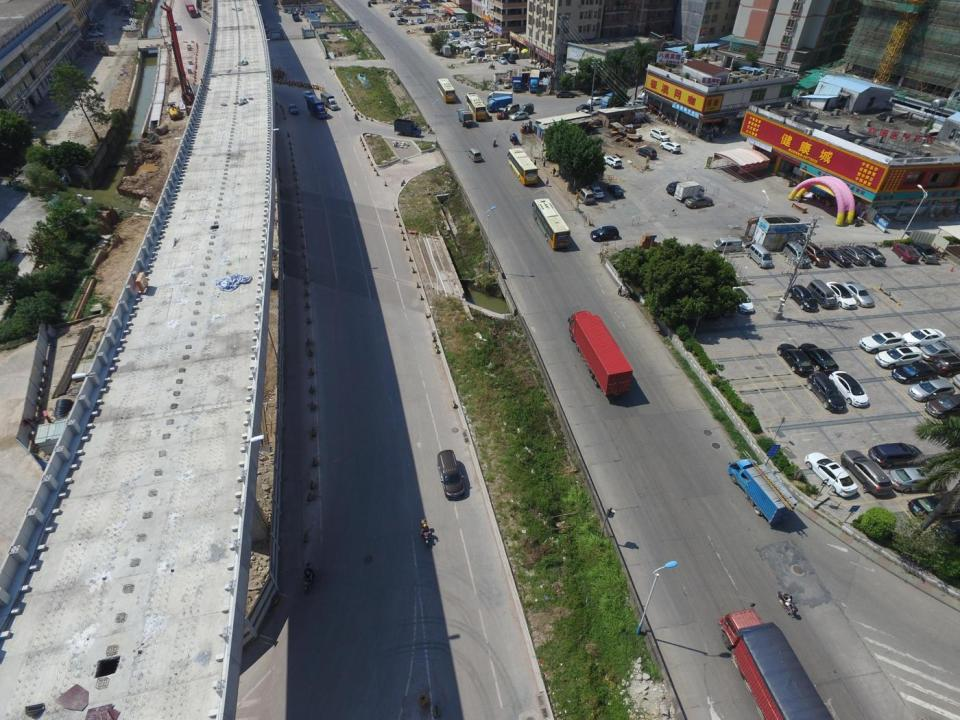bus: (532, 198, 572, 250), (507, 149, 539, 185), (465, 92, 487, 121), (437, 79, 456, 103)
car: (840, 450, 893, 496), (805, 451, 857, 497), (807, 372, 846, 412), (829, 370, 868, 408), (798, 343, 839, 376), (908, 493, 960, 518), (888, 467, 943, 490), (868, 442, 922, 464), (777, 344, 814, 375), (875, 345, 922, 368), (907, 379, 955, 401), (859, 331, 905, 352), (826, 280, 857, 310), (892, 363, 938, 383), (924, 392, 960, 417), (842, 280, 875, 306), (903, 327, 946, 346), (932, 515, 960, 544), (788, 285, 818, 311), (799, 242, 830, 267), (919, 342, 960, 358), (823, 246, 852, 268), (890, 242, 920, 263), (932, 355, 960, 377), (732, 287, 755, 313), (858, 245, 886, 266), (840, 246, 867, 264), (590, 225, 620, 241), (719, 292, 737, 316), (685, 195, 712, 209), (660, 141, 682, 154), (650, 128, 670, 142), (914, 243, 935, 256), (601, 156, 623, 168), (636, 148, 657, 159), (608, 185, 625, 198), (587, 184, 604, 197), (666, 182, 686, 193), (510, 110, 528, 120), (556, 90, 574, 98), (594, 86, 612, 94), (577, 104, 593, 112), (588, 97, 604, 105), (87, 30, 104, 37), (303, 91, 316, 100), (288, 103, 298, 114), (636, 95, 645, 103), (498, 57, 506, 65), (508, 57, 516, 64), (407, 19, 415, 25), (503, 82, 510, 88), (464, 22, 472, 27), (418, 18, 423, 24), (388, 12, 394, 17), (391, 5, 396, 11), (174, 22, 177, 28), (396, 13, 401, 16)
van: (719, 602, 833, 719), (567, 311, 632, 397), (727, 450, 797, 526), (438, 449, 464, 500), (782, 241, 810, 267), (747, 243, 773, 269), (674, 182, 707, 200), (601, 89, 628, 109), (394, 119, 421, 137), (306, 97, 328, 119), (712, 236, 742, 252), (487, 95, 512, 112), (488, 91, 514, 104), (320, 92, 338, 110), (576, 187, 595, 204), (456, 108, 473, 127), (529, 69, 541, 93), (512, 68, 523, 92), (184, 1, 197, 18), (468, 149, 482, 162), (504, 103, 518, 114), (440, 43, 451, 56), (520, 103, 534, 113), (292, 12, 300, 21), (457, 20, 466, 26), (396, 18, 402, 24)
